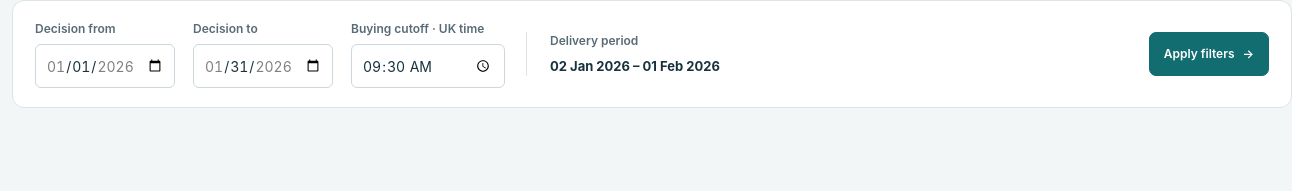
Test case: stored-data filter form › blocks reversed accuracy ranges
This screenshot has width=1292, height=191.
Type "2026-01-31" into the date field labelled "Decision from" at (105, 66), box [35,44,175,88]
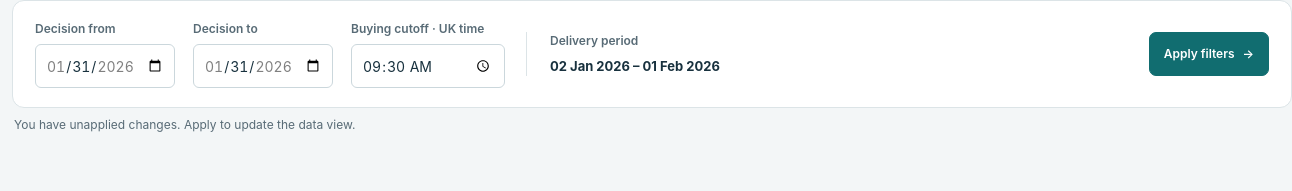
Type "2026-01-30" into the date field labelled "Decision to" at (263, 66), box [193,44,333,88]
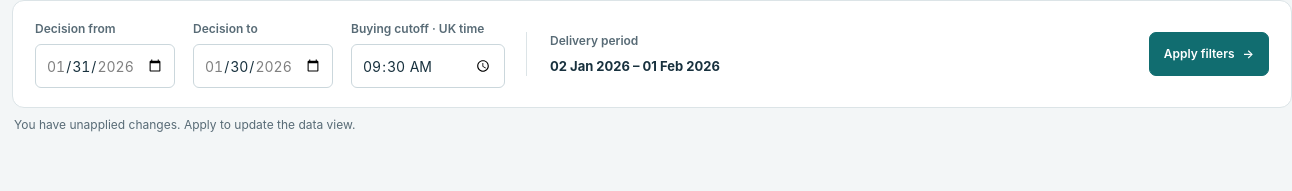
Click the button "Apply filters →" at (1209, 54), box [1149,32,1269,76]
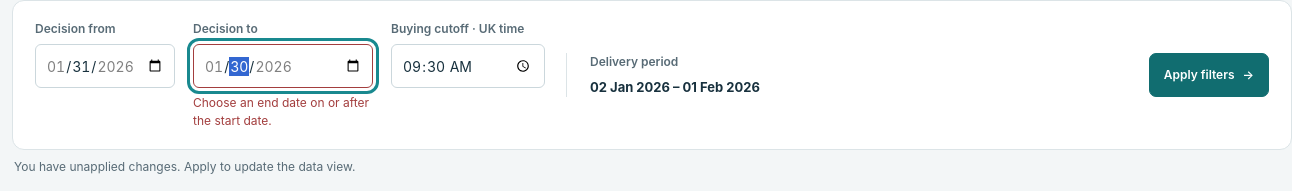
Expected: the text "Choose an end date on or after the start date." is shown, [193,94,373,130]
